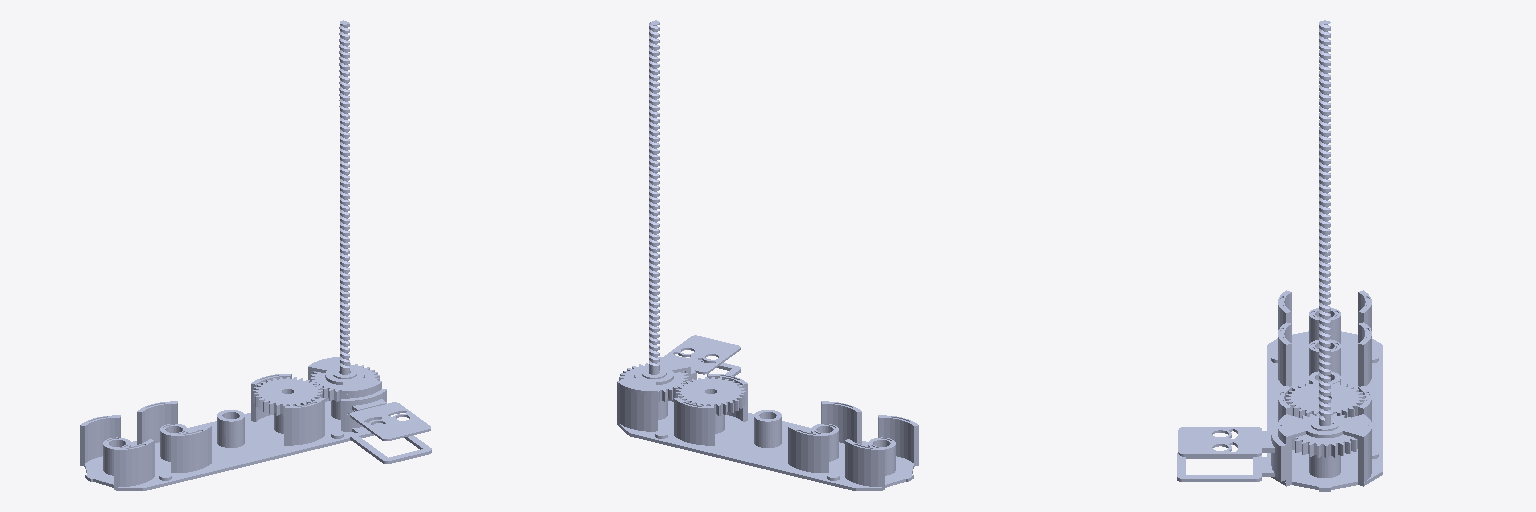
robot.urdf — solidworks2ros_try33:
<?xml version="1.0" encoding="utf-8"?>
<!-- This URDF was automatically created by SolidWorks to URDF Exporter! Originally created by [author] ([email redacted]) 
     Commit Version: 1.6.0-4-g7f85cfe  Build Version: 1.6.7995.38578
     For more information, please see http://wiki.ros.org/sw_urdf_exporter -->
<robot
  name="solidworks2ros_try33">

  <link name = "dummy">
  </link>

  <joint name="dummy_joint" type="fixed">
    <parent link="dummy"/>
    <child link="base_link"/>
  </joint>

  <link name="base_link">
    <inertial>
      <origin
        xyz="0.36382 -0.14857 0.33452"
        rpy="0 0 0" />
      <mass
        value="3248.6" />
      <inertia
        ixx="1590"
        ixy="5.8895E-06"
        ixz="0.005018"
        iyy="13512"
        iyz="-16.336"
        izz="14601" />
    </inertial>
    <visual>
      <origin
        xyz="0 0 0"
        rpy="0 0 0" />
      <geometry>
        <mesh
          filename="package://solidworks2ros_try33/meshes/base_link.STL" />
      </geometry>
      <material
        name="">
        <color
          rgba="0.79216 0.81961 0.93333 1" />
      </material>
    </visual>
    <collision>
      <origin
        xyz="0 0 0"
        rpy="0 0 0" />
      <geometry>
        <mesh
          filename="package://solidworks2ros_try33/meshes/base_link.STL" />
      </geometry>
    </collision>
  </link>

  <link name="link1">
    <inertial>
      <origin
        xyz="-0.0028443 0.0029656 1.6945"
        rpy="0 0 0" />
      <mass
        value="823.32" />
      <inertia
        ixx="2630.9"
        ixy="0.034568"
        ixz="-0.0063149"
        iyy="2630.9"
        iyz="0.23572"
        izz="118.2" />
    </inertial>
    <visual>
      <origin
        xyz="0 0 0"
        rpy="0 0 0" />
      <geometry>
        <mesh
          filename="package://solidworks2ros_try33/meshes/link1.STL" />
      </geometry>
      <material
        name="">
        <color
          rgba="0.79216 0.81961 0.93333 1" />
      </material>
    </visual>
    <collision>
      <origin
        xyz="0 0 0"
        rpy="0 0 0" />
      <geometry>
        <mesh
          filename="package://solidworks2ros_try33/meshes/link1.STL" />
      </geometry>
    </collision>
  </link>

  <joint name="joint1"
    type="continuous">
    <origin
      xyz="2.9619 -0.0029702 0.85629"
      rpy="0 0 0" />
    <parent
      link="base_link" />
    <child
      link="link1" />
    <axis
      xyz="0 0 -1" />
    <limit
      effort="100"
      velocity="2" />
  </joint>

  <link name="link2">
    <inertial>
      <origin
        xyz="0.0039258 0.0012118 -0.059794"
        rpy="0 0 0" />
      <mass
        value="479.53" />
      <inertia
        ixx="62.098"
        ixy="2.8604E-14"
        ixz="-1.8578E-13"
        iyy="62.098"
        iyz="-4.5184E-14"
        izz="114.95" />
    </inertial>
    <visual>
      <origin
        xyz="0 0 0"
        rpy="0 0 0" />
      <geometry>
        <mesh
          filename="package://solidworks2ros_try33/meshes/link2.STL" />
      </geometry>
      <material
        name="">
        <color
          rgba="0.79216 0.81961 0.93333 1" />
      </material>
    </visual>
    <collision>
      <origin
        xyz="0 0 0"
        rpy="0 0 0" />
      <geometry>
        <mesh
          filename="package://solidworks2ros_try33/meshes/link2.STL" />
      </geometry>
    </collision>
  </link>

  <joint name="joint2"
    type="continuous">
    <origin
      xyz="1.4756 -0.0012118 0.85629"
      rpy="0 0 0" />
    <parent
      link="base_link" />
    <child
      link="link2" />
    <axis
      xyz="0 0 -1" />
    <limit
      effort="100"
      velocity="2" />
  </joint>

  <transmission name="trans1">
    <type>transmission_interface/SimpleTransmission</type>
    <joint name="joint1">
      <hardwareInterface>hardware_interface/VelocityJointInterface</hardwareInterface>
    </joint>
    <actuator name="motor1">
      <hardwareInterface>hardware_interface/VelocityJointInterface</hardwareInterface>
      <mechanicalReduction>1</mechanicalReduction>
    </actuator>
  </transmission>

  <transmission name="trans2">
    <type>transmission_interface/SimpleTransmission</type>
    <joint name="joint2">
      <hardwareInterface>hardware_interface/VelocityJointInterface</hardwareInterface>
    </joint>
    <actuator name="motor2">
      <hardwareInterface>hardware_interface/VelocityJointInterface</hardwareInterface>
      <mechanicalReduction>1</mechanicalReduction>
    </actuator>
  </transmission>

  <!-- Gazebo controller -->
  <gazebo>
      <plugin name="ros_control" filename="libgazebo_ros_control.so"/>
  </gazebo>


</robot>

--- What the picture shows (computed from the rendered views, not written in the file) ---
3 views of the same robot in one strip: view 1: azimuth 30°, elevation 25°; view 2: azimuth 150°, elevation 25°; view 3: azimuth 270°, elevation 25° (orthographic).
Robot: solidworks2ros_try33 — 4 links, 3 joints (2 continuous, 1 fixed); root link dummy; default pose: every joint at zero.
Links seen in each view (by area): view 1: base_link, link1, link2; view 2: base_link, link1, link2; view 3: base_link, link1, link2.
Link boxes in pixels (x1,y1,x2,y2): base_link: (80, 357, 431, 490); link1: (310, 20, 379, 401); link2: (253, 377, 322, 415); base_link: (617, 335, 918, 490); link1: (619, 20, 688, 402); link2: (676, 377, 745, 415); base_link: (1177, 290, 1382, 491); link1: (1292, 20, 1357, 457); link2: (1285, 381, 1364, 417).
Bounding box of the posed robot: 7.47 × 4.06 × 9.81 m (x, y, z).
3 mesh visuals loaded from 3 distinct referenced files (3 binary STL).